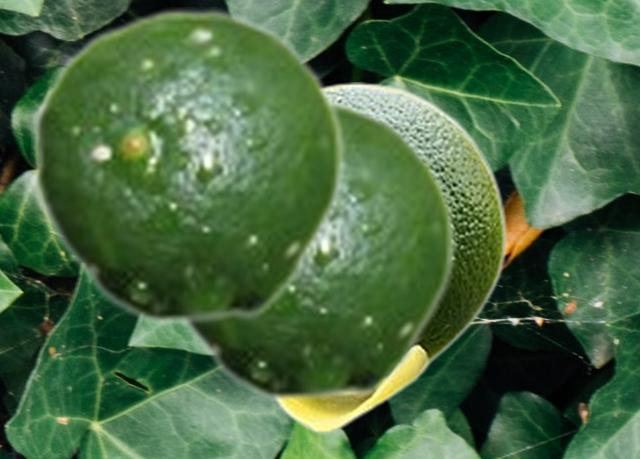calamansi: (31, 7, 346, 326), (175, 98, 457, 403), (272, 82, 506, 433)
